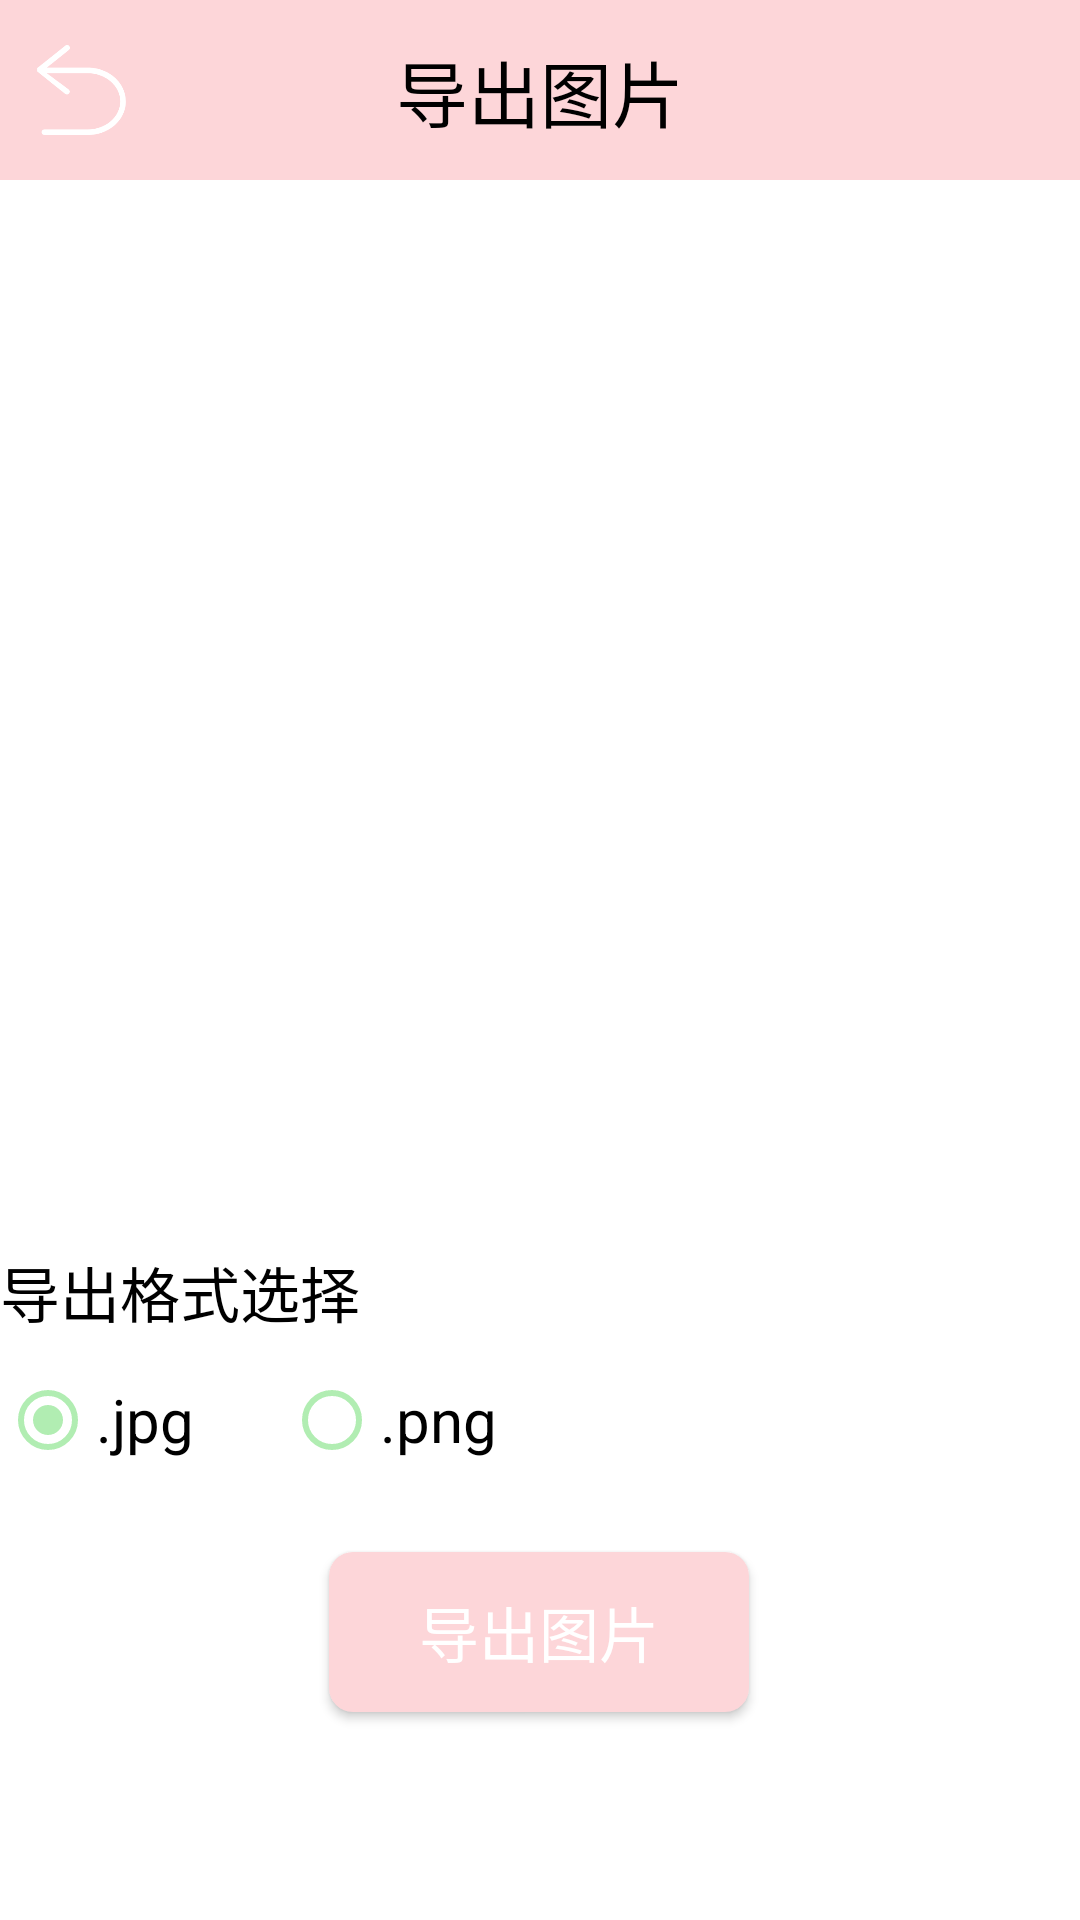

Screen size 1080px x 1920px. Icon name, then its center in pixels as (x=x, y=y):
back: (x=81, y=90)
